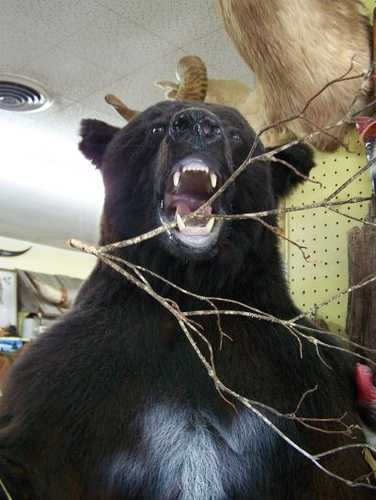bear: (131, 109, 259, 238), (47, 109, 175, 238), (217, 141, 345, 270)
